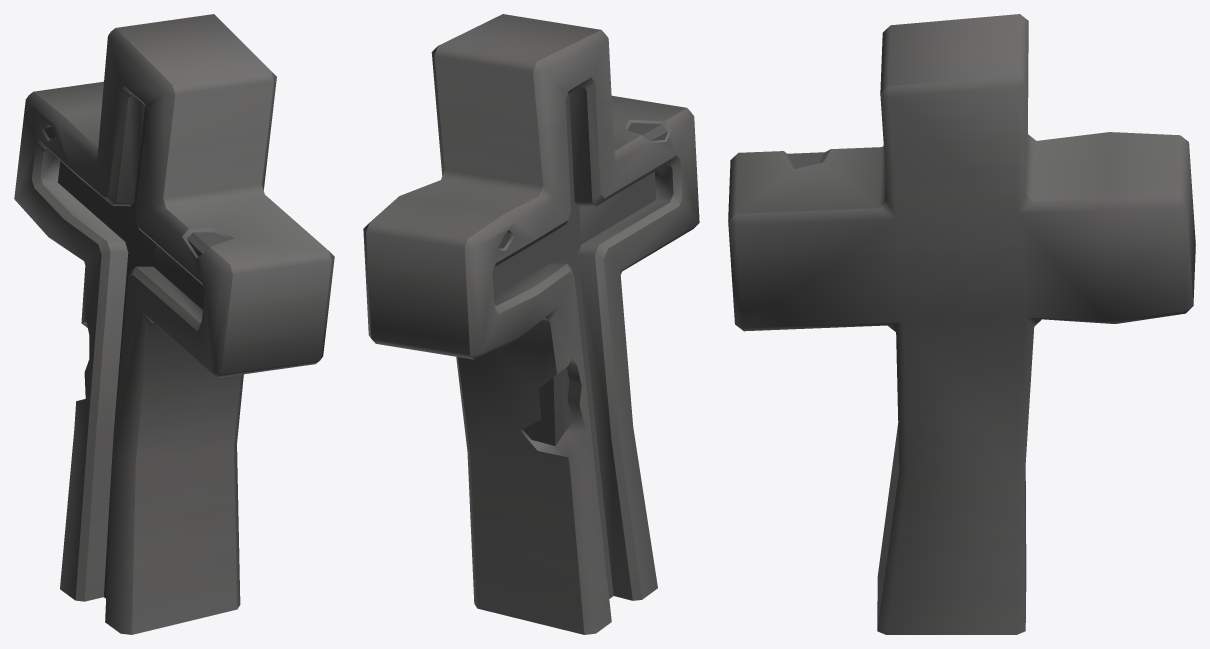
The model's file is Cross_2_3.glb.
3 renders of one model, left to right at view 1: azimuth 30°, elevation 25°; view 2: azimuth 150°, elevation 25°; view 3: azimuth 270°, elevation 25°, orthographic. The views are drawn at different scales.
Visible parts, largest first — view 1: Cross_2_3; view 2: Cross_2_3; view 3: Cross_2_3.
Boxes of the visible parts, <box> form: Cross_2_3: <box>14,14,334,634</box>; Cross_2_3: <box>363,14,699,634</box>; Cross_2_3: <box>728,14,1195,634</box>.
Bounding box in the file's own units: 0.3162 × 1.03 × 0.7419.
1 material, 1 textured.
